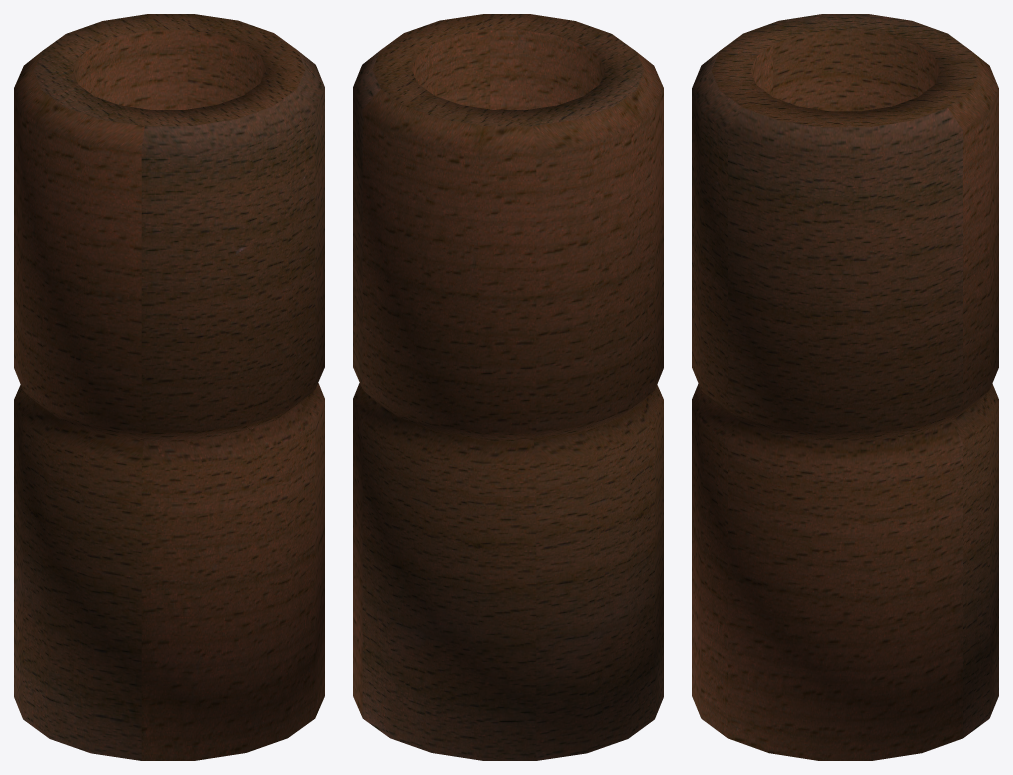
File: Koma_C_Lo_C2.fbx
3 views of the same model, side by side, from view 1: azimuth 30°, elevation 25°; view 2: azimuth 150°, elevation 25°; view 3: azimuth 270°, elevation 25° (orthographic).
Parts seen in each view (by area): view 1: Koma_C_Lo_C2; view 2: Koma_C_Lo_C2; view 3: Koma_C_Lo_C2.
Part boxes in pixels (box(x1,y1,x2,y2)): Koma_C_Lo_C2: box(14, 14, 324, 760); Koma_C_Lo_C2: box(353, 14, 663, 760); Koma_C_Lo_C2: box(692, 14, 998, 760).
Bounding box in the file's own units: 1.6 × 3.6 × 1.6.
1 material, 1 textured.
